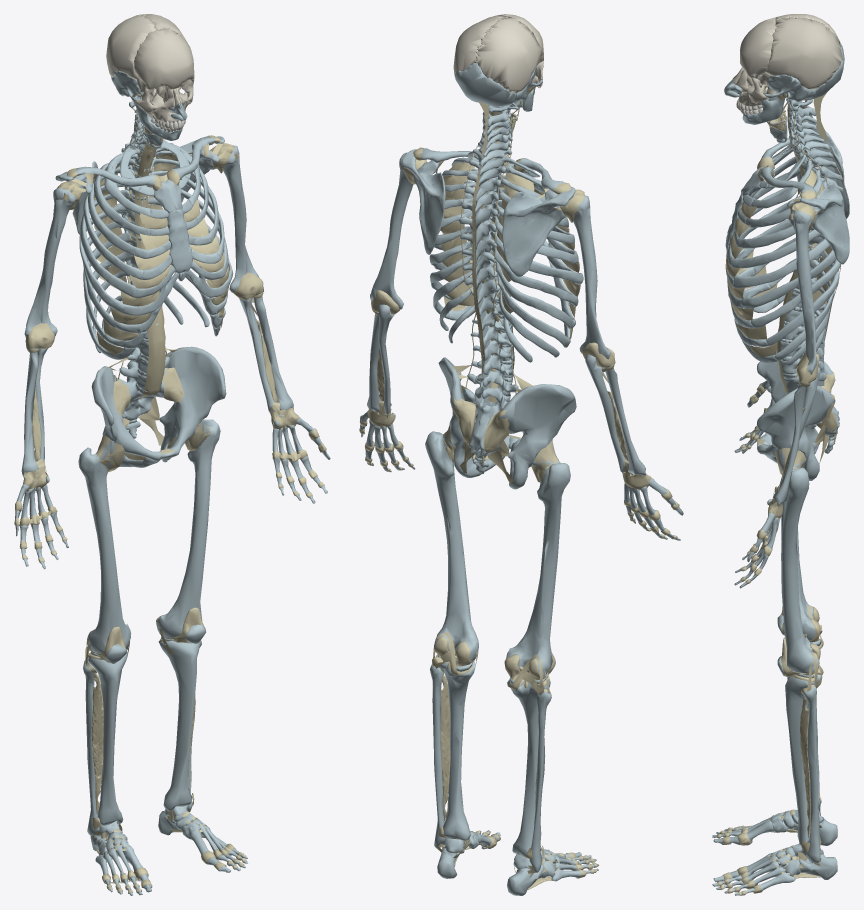
Rendered from esqueleto.glb.
3 views of the same model, side by side, from view 1: azimuth 30°, elevation 25°; view 2: azimuth 150°, elevation 25°; view 3: azimuth 270°, elevation 25° (orthographic). The views are drawn at different scales.
Visible parts, largest first — view 1: esqueleto; view 2: esqueleto; view 3: esqueleto.
Part boxes in pixels (left/top/right/bottom): esqueleto: left=14, top=14, right=330, bottom=895; esqueleto: left=359, top=14, right=683, bottom=895; esqueleto: left=712, top=14, right=849, bottom=895.
Bounding box in the file's own units: 0.669 × 1.7 × 0.2501.
